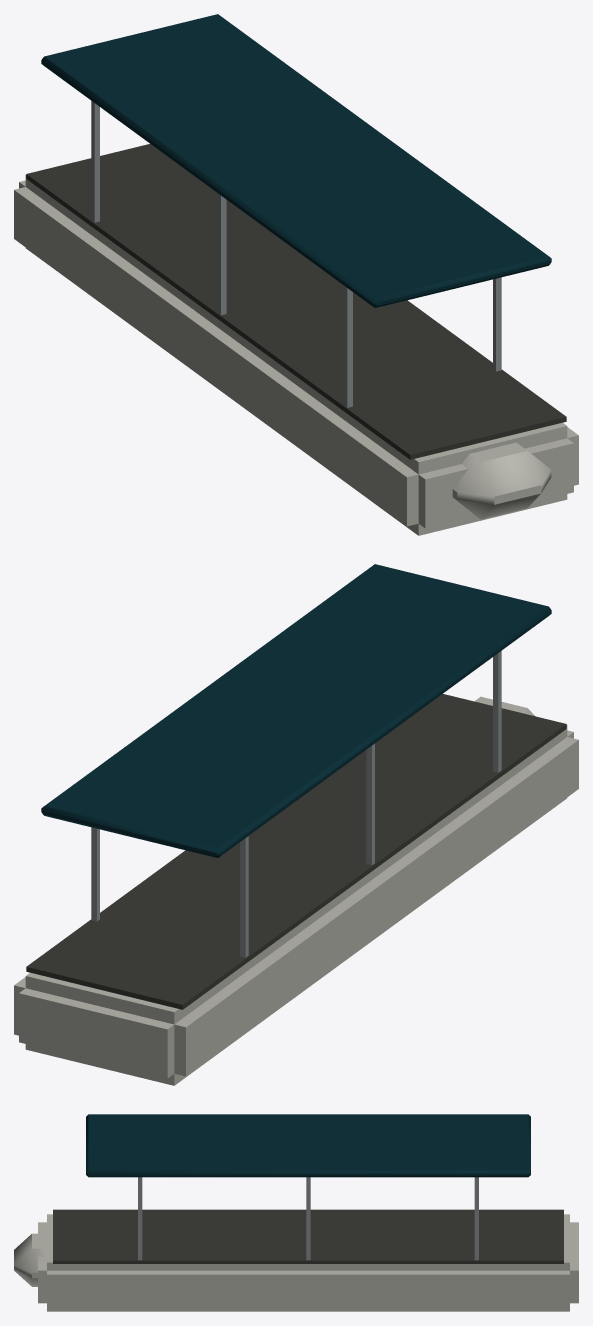
Rendered from hz-boat-electric-far.glb.
The picture shows the model from 3 angles, top to bottom: view 1: azimuth 30°, elevation 25°; view 2: azimuth 150°, elevation 25°; view 3: azimuth 270°, elevation 25°; orthographic projection. The views are drawn at different scales.
Visible parts, largest first — view 1: hull__paint, canopy__paint; view 2: hull__paint, canopy__paint; view 3: hull__paint, canopy__paint.
Boxes of the visible parts, x1=… form: hull__paint: x1=14, y1=144, x2=578, y2=535; canopy__paint: x1=41, y1=14, x2=551, y2=407; hull__paint: x1=14, y1=694, x2=578, y2=1085; canopy__paint: x1=41, y1=564, x2=551, y2=957; hull__paint: x1=14, y1=1209, x2=578, y2=1311; canopy__paint: x1=86, y1=1114, x2=530, y2=1260.
Size of the model in its own units: 2.3 by 2.66 by 9.4.
